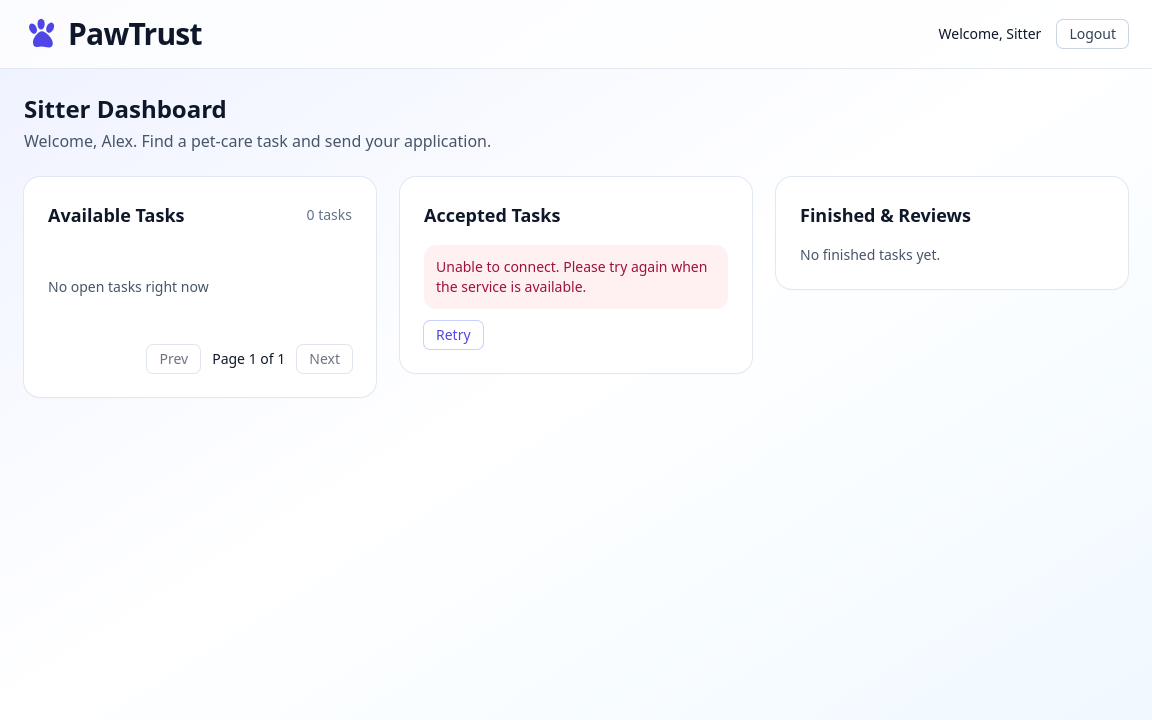
shows a retry when the accepted list cannot load
Expected: the message shows "Unable to connect", [436,257,707,296]
Click the button "Retry" at (453,335), box [424,321,483,349]
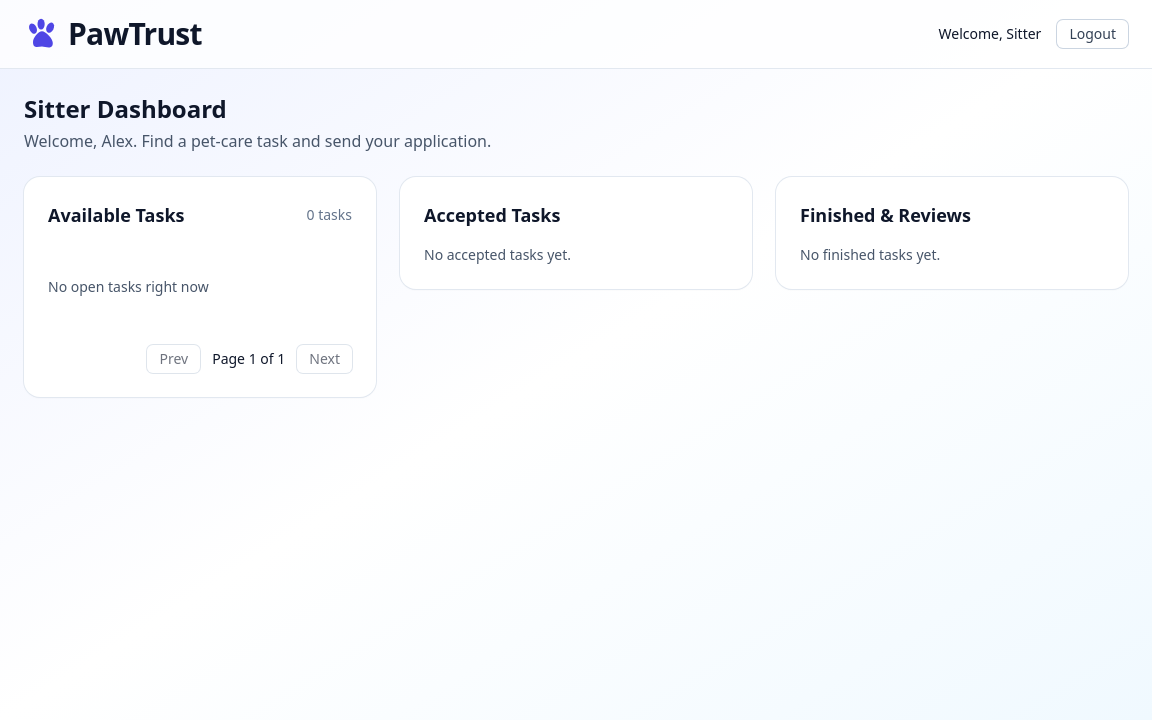
Result: the text "No accepted tasks yet." is shown at [424,245,571,264]
